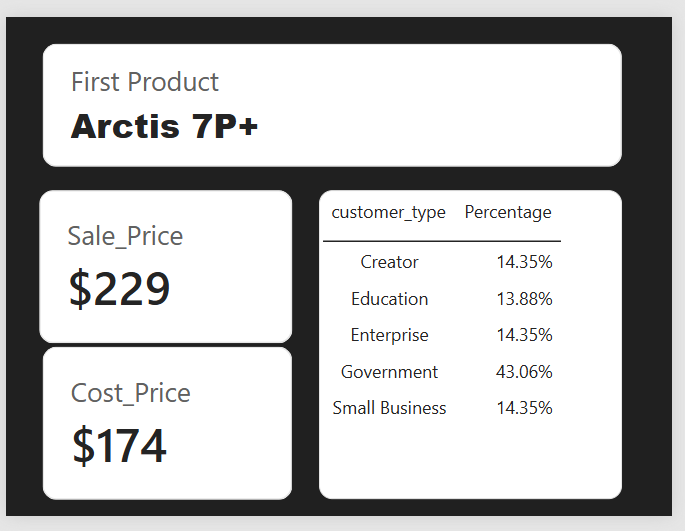

The page's visual inventory and layout, read from the dashboard file:
{"tool":"powerbi","page":{"name":"Tooltips","canvas":[400,300],"ordinal":1},"visuals":[{"type":"cardVisual","fields":{"Data":["Max(Query.Sale_Price)"]},"box":[20,104,152,92],"z":0},{"type":"cardVisual","fields":{"Data":["Max(Query.Cost_Price)"]},"box":[22,198,150,92],"z":1},{"type":"cardVisual","fields":{"Data":["Min(Query.Product)"]},"box":[22,16,348,74],"z":2},{"type":"tableEx","fields":{"Values":["Query.customer_type","CountNonNull(Query.customer_type)"]},"box":[188,104,182,186],"z":3}]}

Visuals, with their boxes on the page's 400x300 design canvas (x1, y1, x2, y2). These are canvas units, not pixel positions in the 685x531 screenshot, which may show the page scaled, cropped or inside an application window:
cardVisual - Max(Query.Sale_Price): (left=20, top=104, right=172, bottom=196)
cardVisual - Max(Query.Cost_Price): (left=22, top=198, right=172, bottom=290)
cardVisual - Min(Query.Product): (left=22, top=16, right=370, bottom=90)
tableEx - Query.customer_type x CountNonNull(Query.customer_type): (left=188, top=104, right=370, bottom=290)
